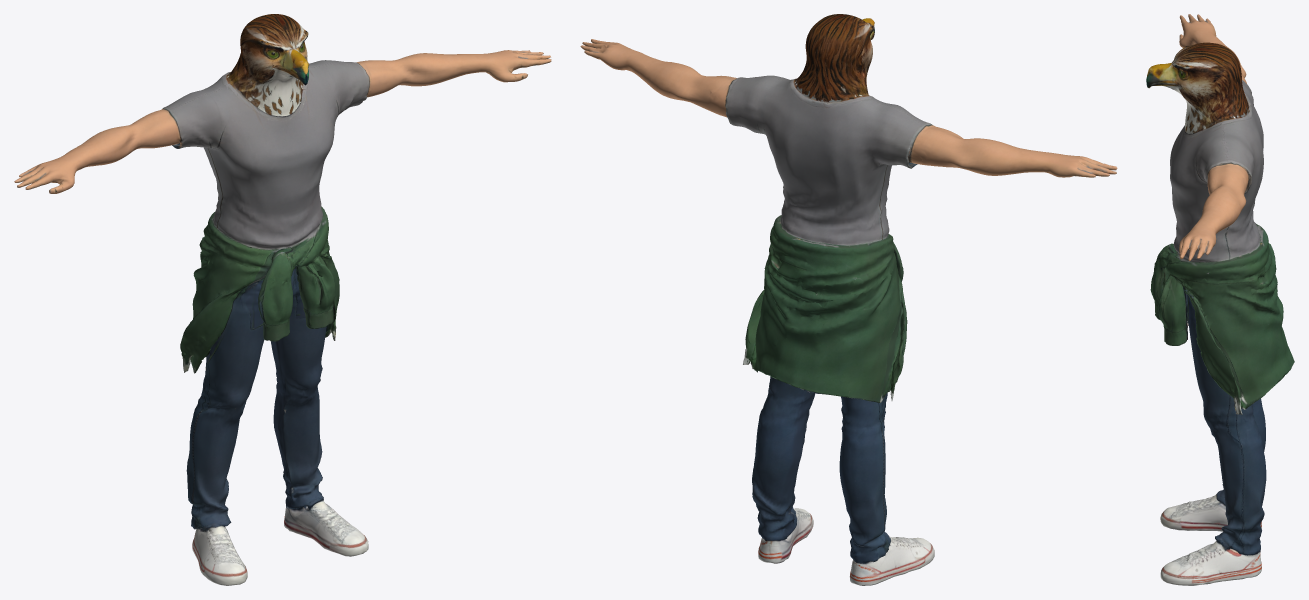
File: 08_Goshawk.fbx
3 renders of one model, left to right at view 1: azimuth 30°, elevation 25°; view 2: azimuth 150°, elevation 25°; view 3: azimuth 270°, elevation 25°, orthographic. The views are drawn at different scales.
Parts seen in each view (by area): view 1: texture_mapping; view 2: texture_mapping; view 3: texture_mapping.
Part boxes in pixels (x1,y1,x2,y2): texture_mapping: (14,14,551,585); texture_mapping: (580,14,1117,585); texture_mapping: (1146,14,1294,585).
Bounding box in the file's own units: 0.997 × 0.9526 × 0.2543.
Materials: 1 (1 with a texture image).
